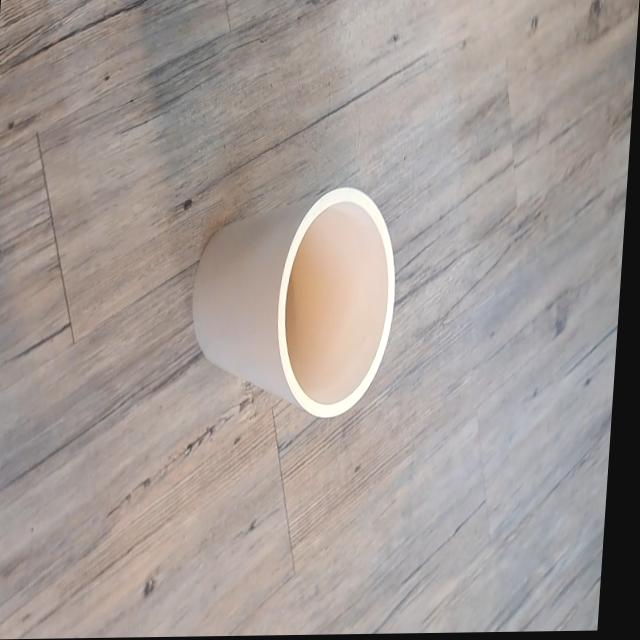CORAL: (177, 142, 416, 439)
